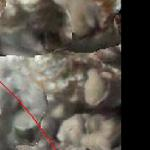alive: (1, 2, 121, 149)
